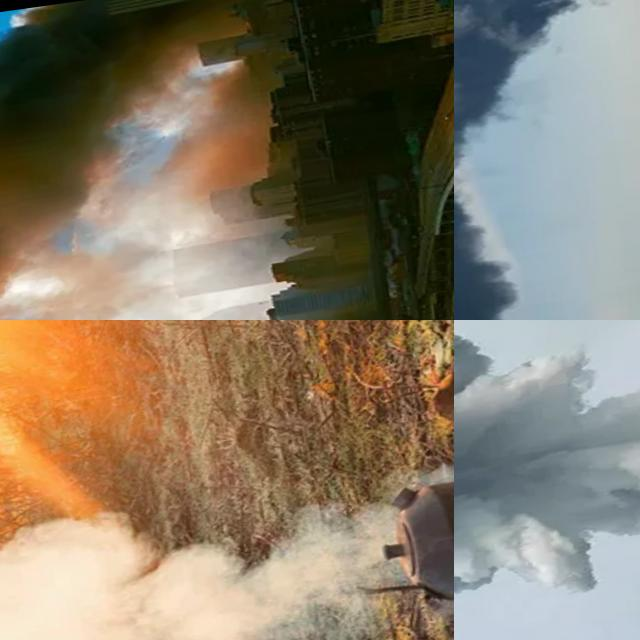smoke: (0, 0, 336, 320), (0, 472, 410, 640), (454, 0, 640, 320), (454, 320, 640, 640)
